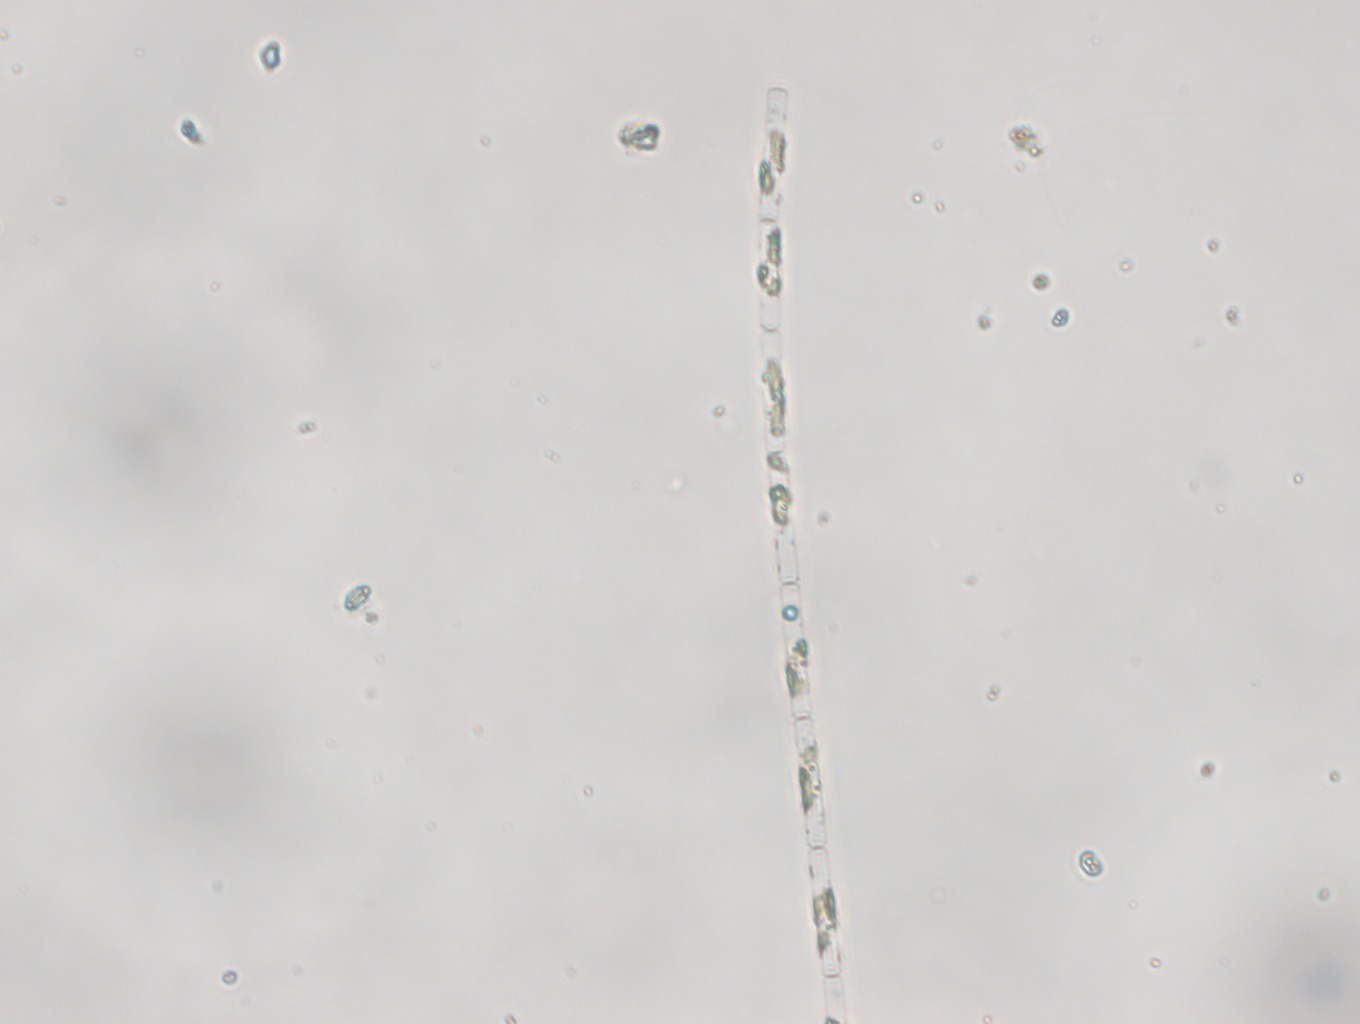guinardia flaccida: (746, 66, 860, 1024)
